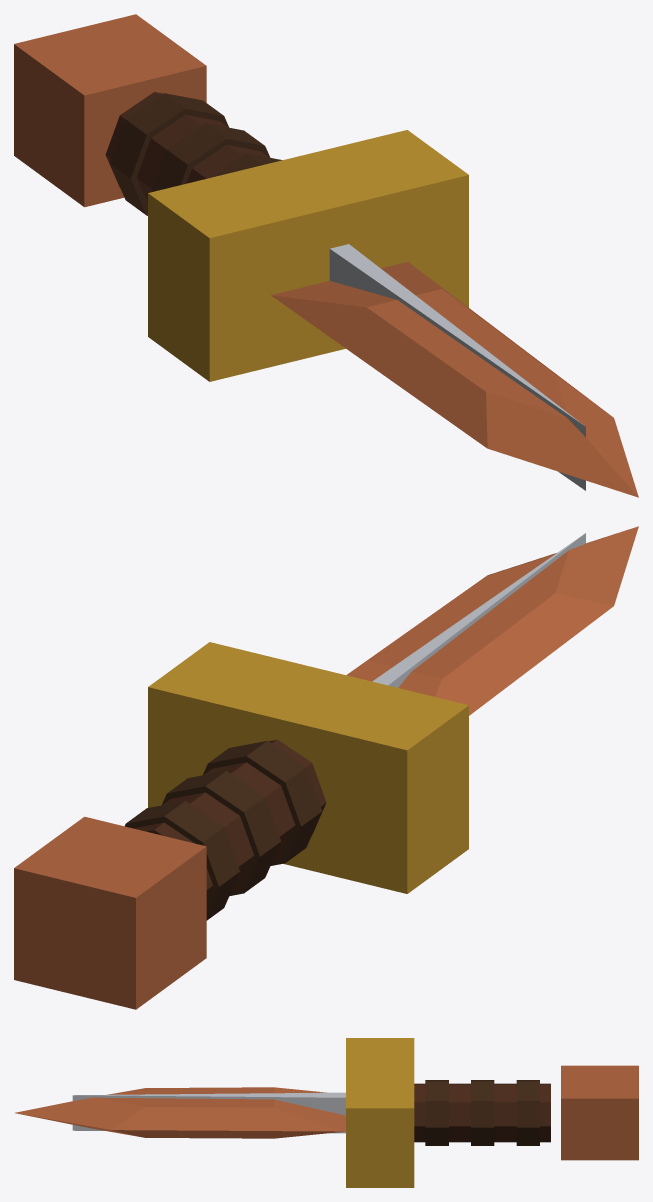
The model's file is 03_Copper_Dagger.glb.
3 renders of one model, top to bottom at view 1: azimuth 30°, elevation 25°; view 2: azimuth 150°, elevation 25°; view 3: azimuth 270°, elevation 25°, orthographic. The views are drawn at different scales.
Parts seen in each view (by area): view 1: 03_Copper_Dagger; view 2: 03_Copper_Dagger; view 3: 03_Copper_Dagger.
Boxes of the visible parts, bbox=[...] form: 03_Copper_Dagger: bbox=[14, 14, 638, 497]; 03_Copper_Dagger: bbox=[14, 526, 638, 1009]; 03_Copper_Dagger: bbox=[15, 1038, 638, 1187].
Size of the model in its own units: 0.17 by 0.09 by 0.64.
